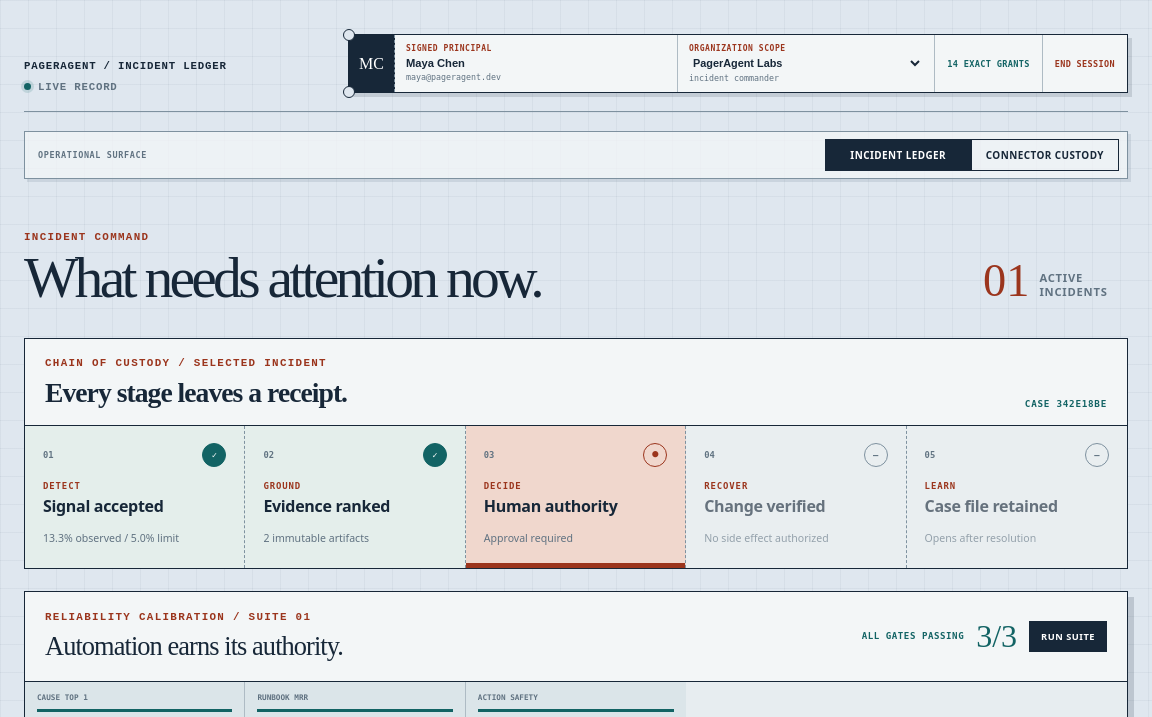
Test: closes the tenant stream before switching organization scope
The image size is (1152, 717).
Select "Sandbox Operations" in the dropdown labelled "Organization scope": (806, 63) [689,56,923,70]
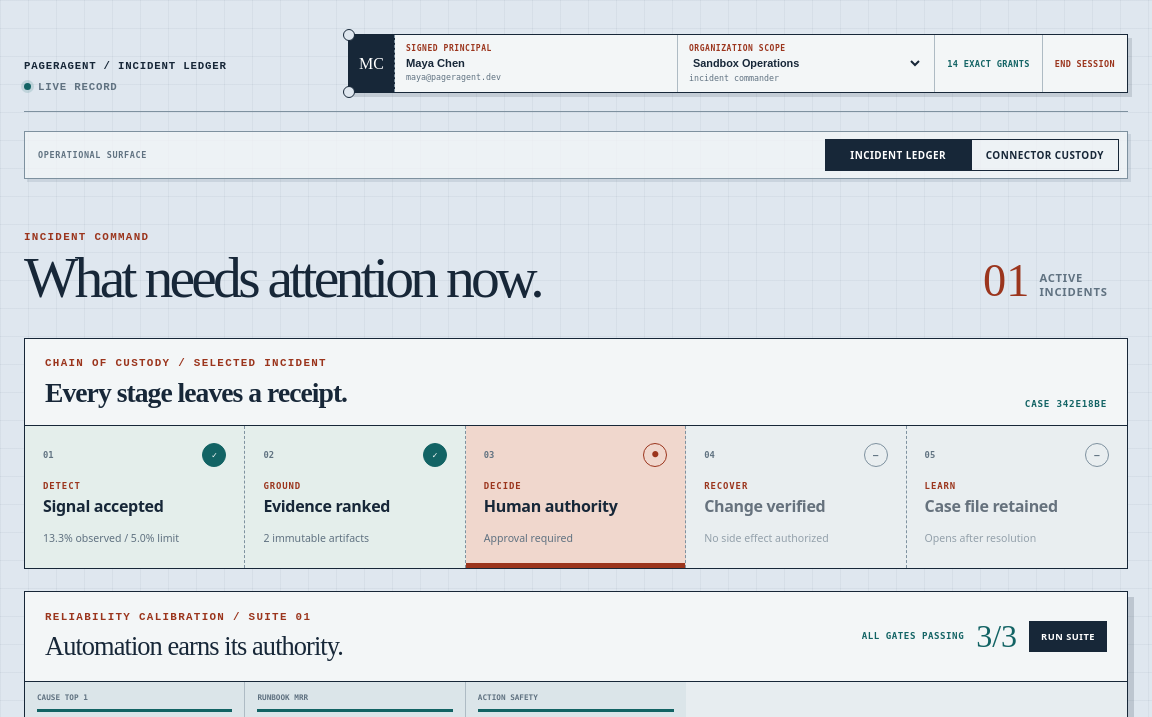
Now the dropdown labelled "Organization scope" shows "Sandbox Operations", box [689,56,923,70]
